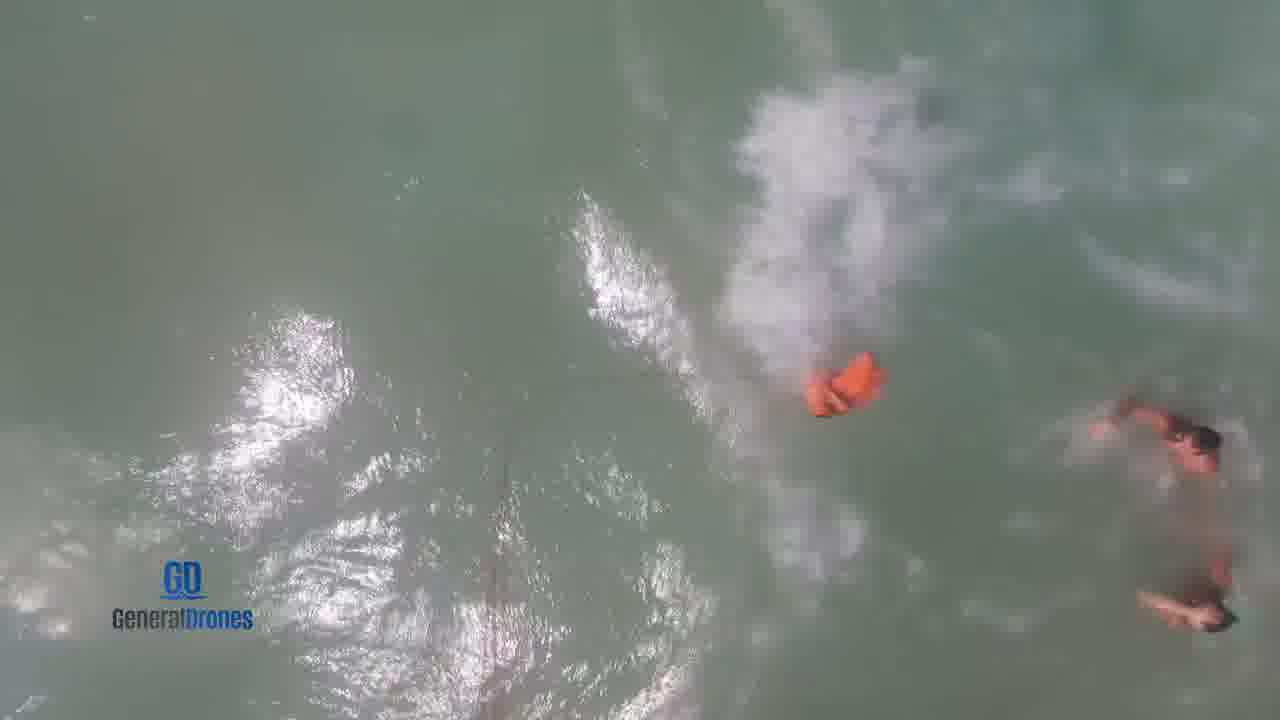human: (1086, 386, 1231, 487), (1116, 533, 1242, 642)
